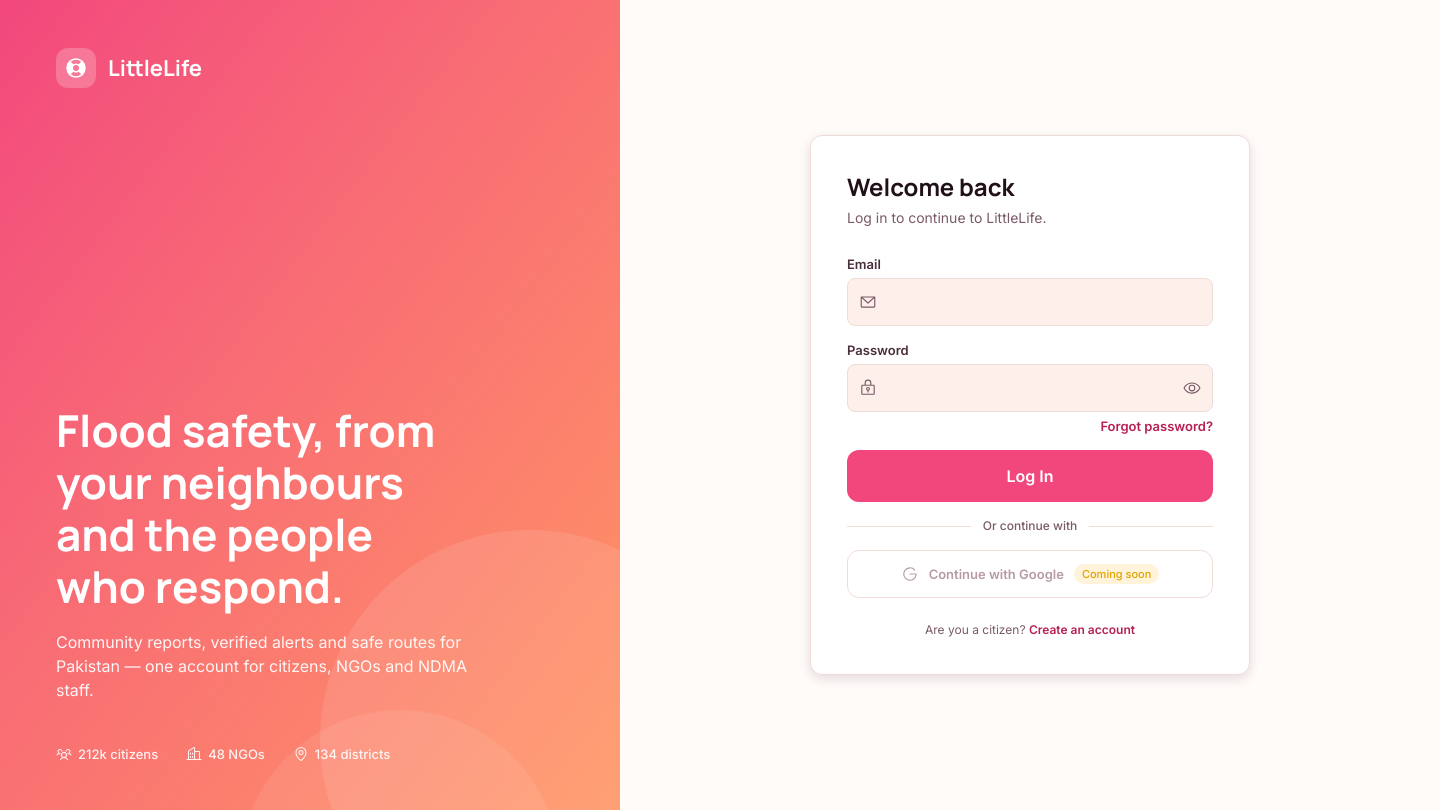
Test: LoginPage › shows the backend error message on invalid credentials and does not authenticate
The image size is (1440, 810).
In the field labelled "Email": point(1030, 302) x1=847 y1=278 x2=1213 y2=326, type "citizen@example.com"
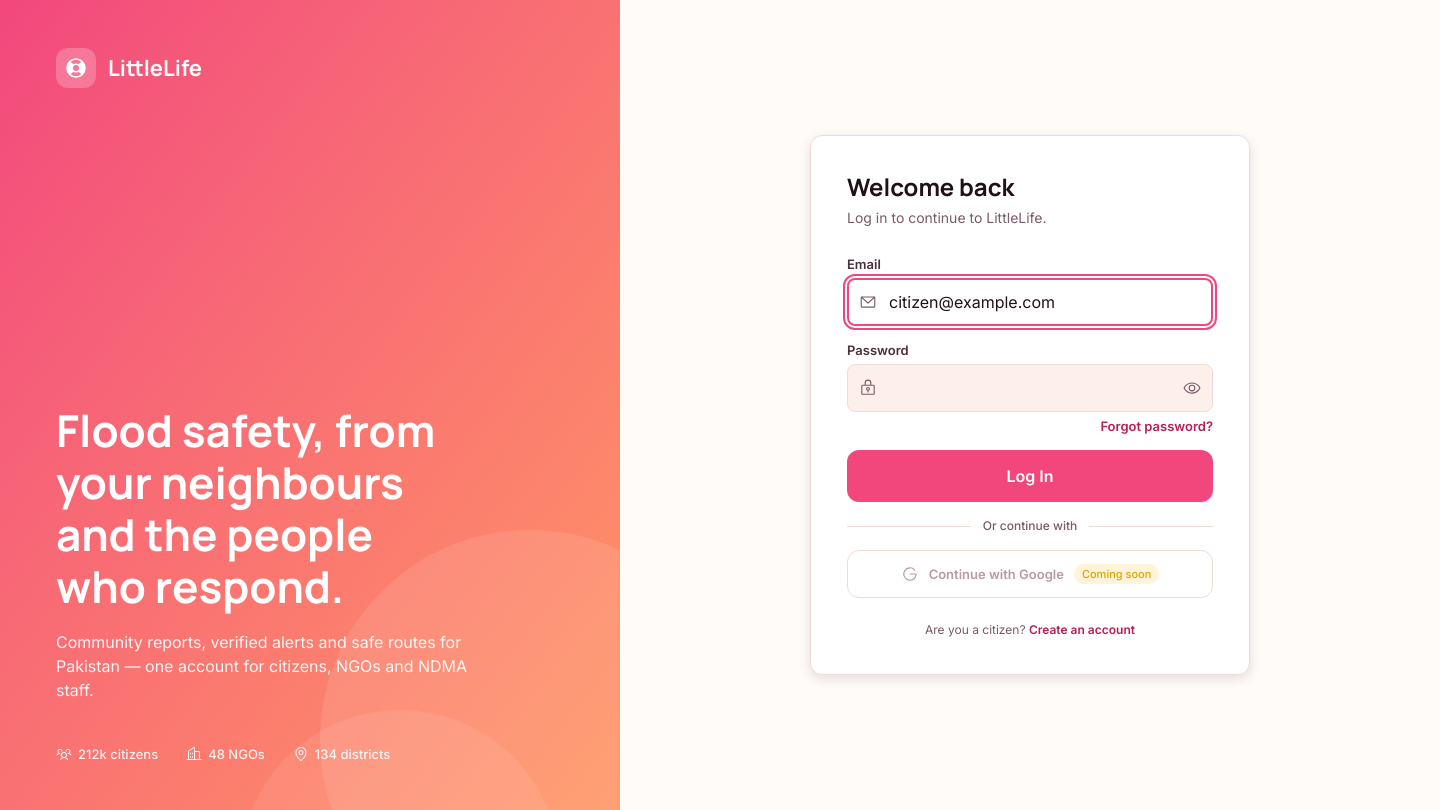
In the password field labelled "Password": point(1030, 388) x1=847 y1=364 x2=1213 y2=412, type "wrong-password"
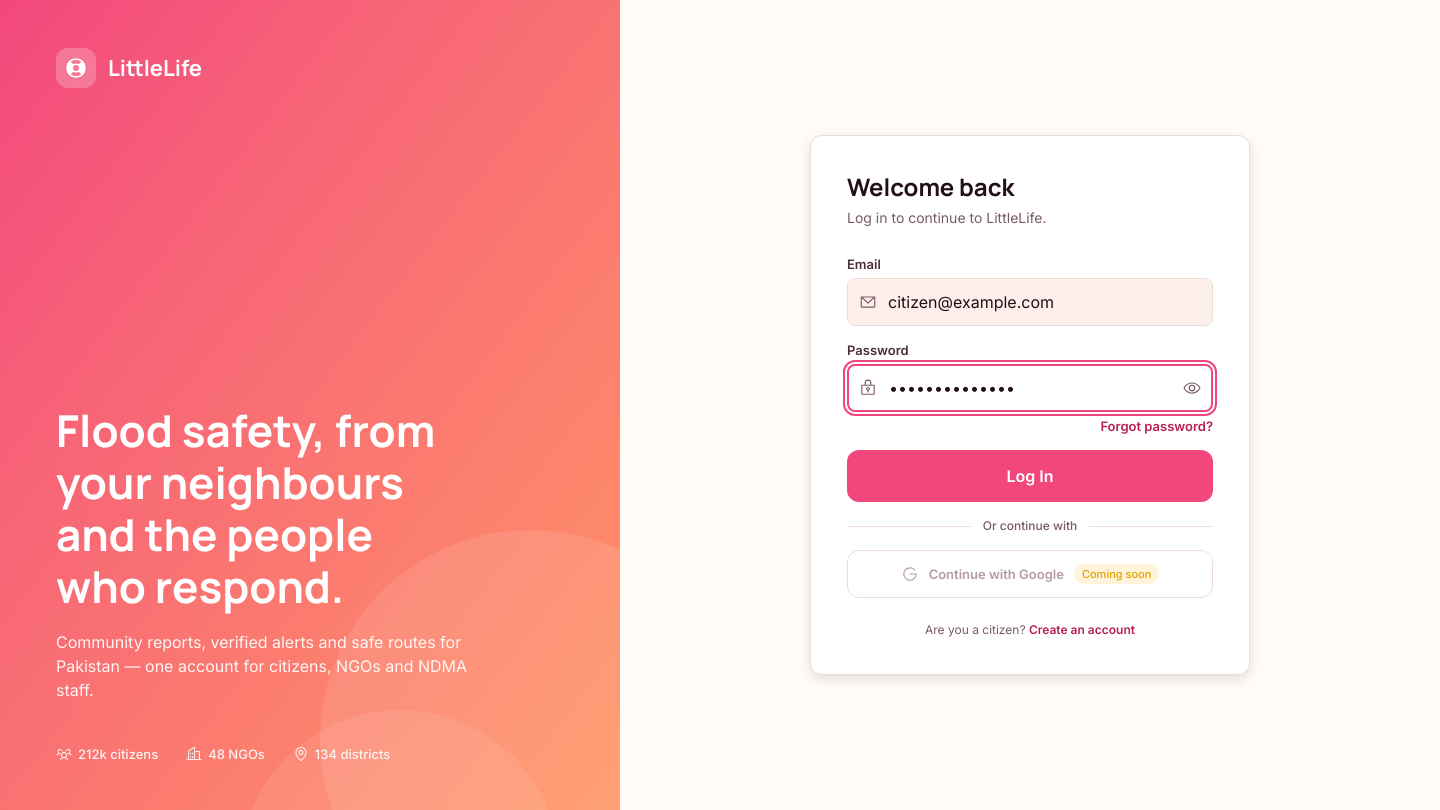
Click the button named "Log In": point(1030, 476) x1=847 y1=450 x2=1213 y2=502
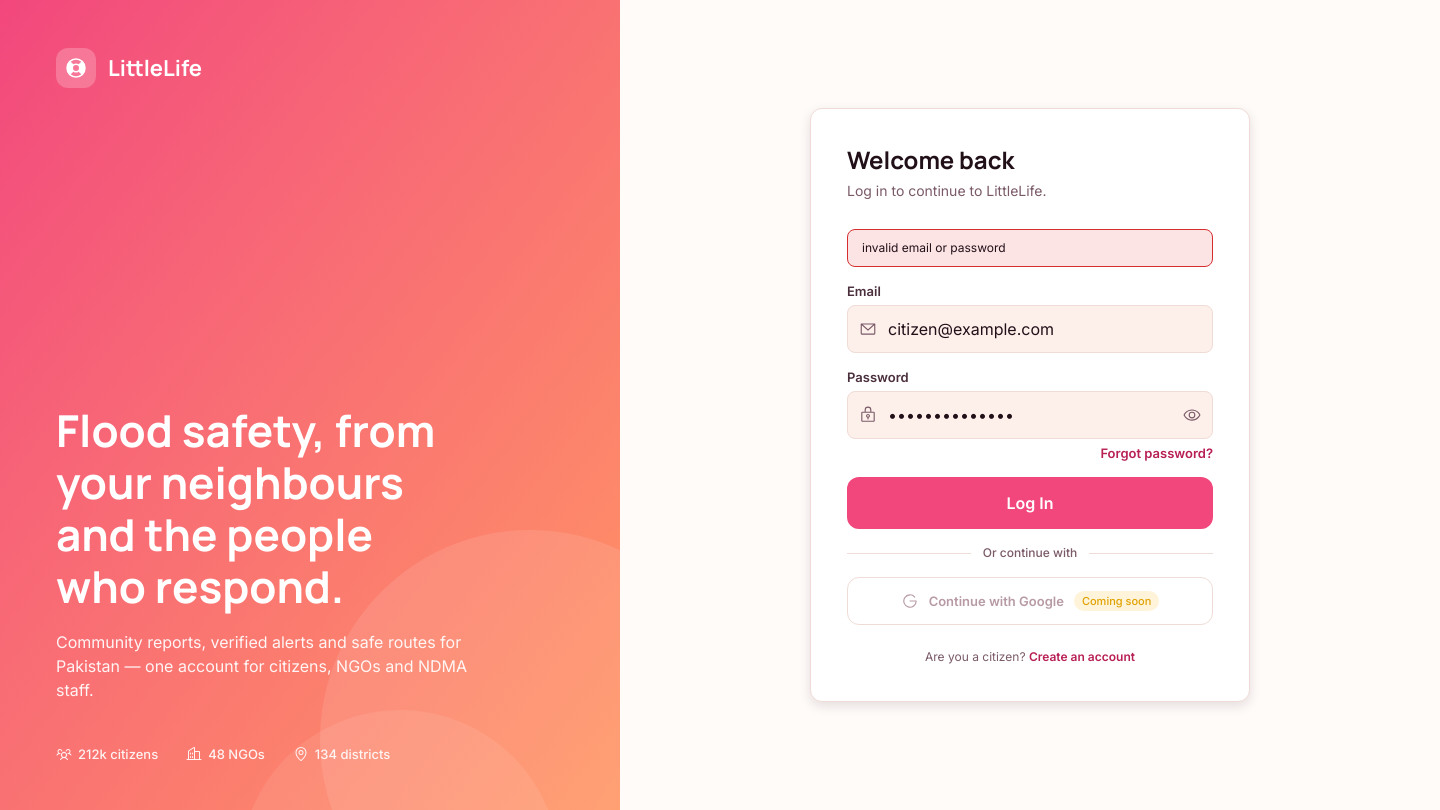
Now the message reads "invalid email or password", box x1=862 y1=240 x2=1006 y2=255
